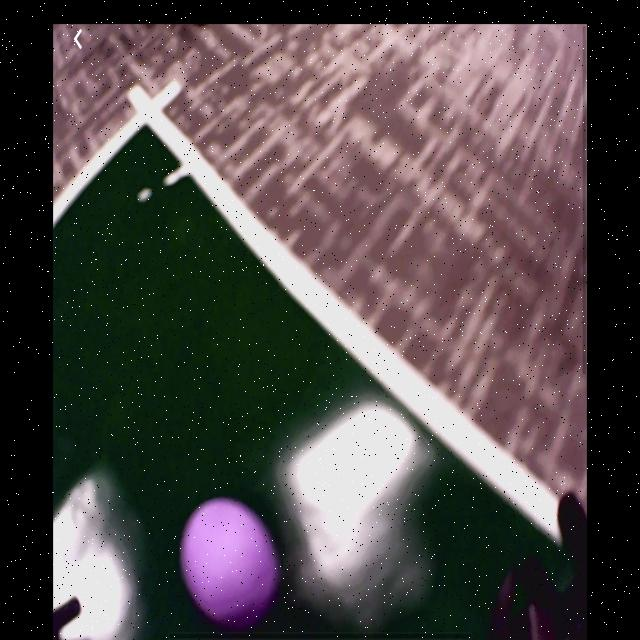ball: (181, 499, 277, 628)
